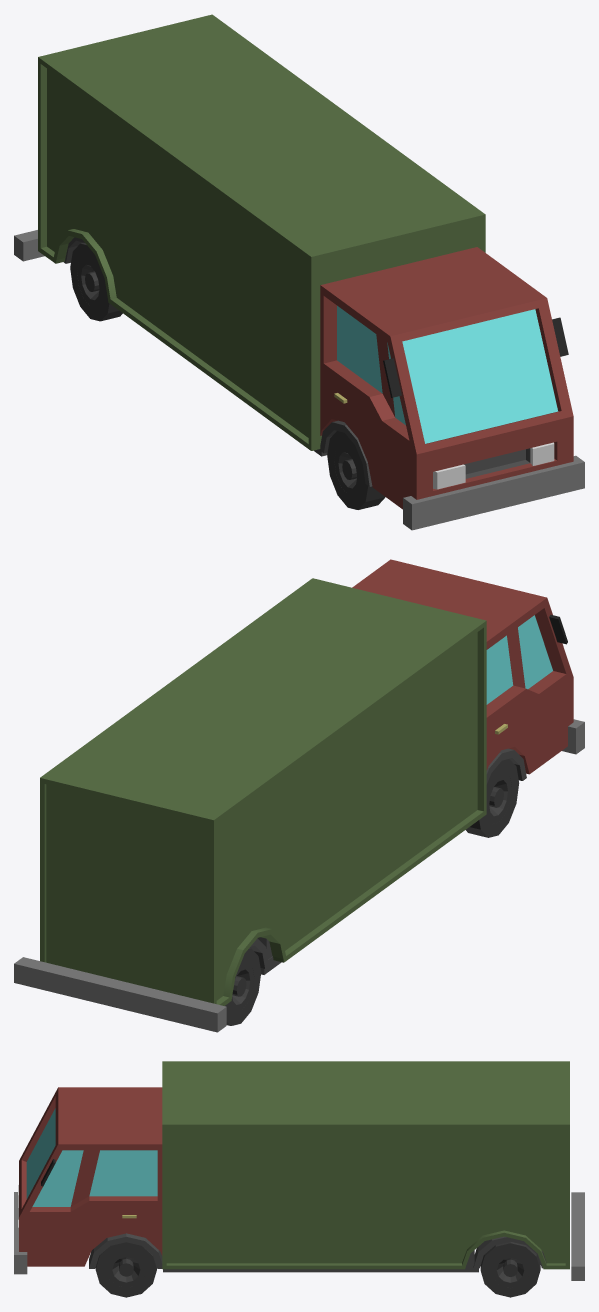
The model's file is Truck_1.fbx.
3 views of the same model, one above another, from view 1: azimuth 30°, elevation 25°; view 2: azimuth 150°, elevation 25°; view 3: azimuth 270°, elevation 25° (orthographic). The views are drawn at different scales.
Parts seen in each view (by area): view 1: pCube63; view 2: pCube63; view 3: pCube63.
Boxes of the visible parts, bbox=[...] form: pCube63: bbox=[14, 14, 584, 530]; pCube63: bbox=[14, 559, 584, 1032]; pCube63: bbox=[14, 1061, 584, 1297].
Size of the model in its own units: 1.3 by 1.44 by 4.23.
